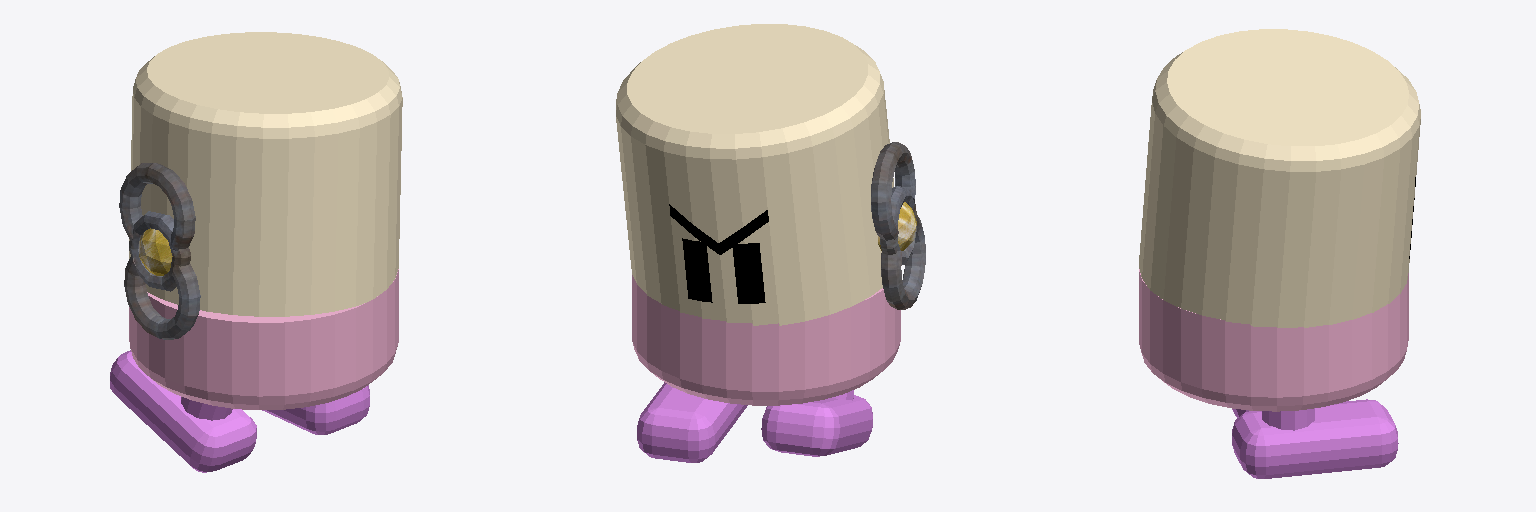
3 views of the same model, side by side, from view 1: azimuth 30°, elevation 25°; view 2: azimuth 150°, elevation 25°; view 3: azimuth 270°, elevation 25° (orthographic).
Visible parts, largest first — view 1: Head, Jaw, WindupKey, LeftLeg, RightLeg; view 2: Head, Jaw, WindupKey, RightLeg, LeftLeg; view 3: Head, Jaw, RightLeg.
Boxes of the visible parts, x1=… form: Head: x1=129, y1=32, x2=402, y2=316; Jaw: x1=129, y1=269, x2=398, y2=409; WindupKey: x1=119, y1=163, x2=200, y2=339; LeftLeg: x1=110, y1=350, x2=256, y2=472; RightLeg: x1=262, y1=385, x2=369, y2=434; Head: x1=616, y1=24, x2=893, y2=325; Jaw: x1=632, y1=275, x2=900, y2=405; WindupKey: x1=871, y1=142, x2=925, y2=309; RightLeg: x1=637, y1=382, x2=747, y2=462; LeftLeg: x1=761, y1=390, x2=872, y2=456; Head: x1=1139, y1=29, x2=1420, y2=327; Jaw: x1=1139, y1=269, x2=1408, y2=411; RightLeg: x1=1232, y1=399, x2=1398, y2=478.
Bounding box in the file's own units: 113 × 152 × 105.
6 materials, 2 textured.